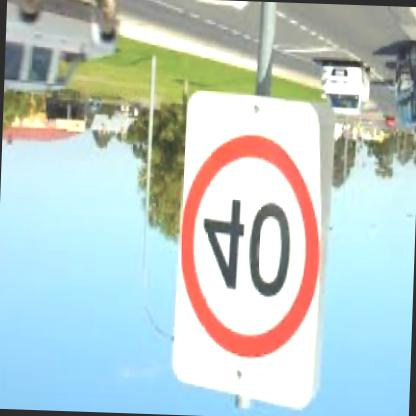speedlimit: (172, 134, 320, 364)
